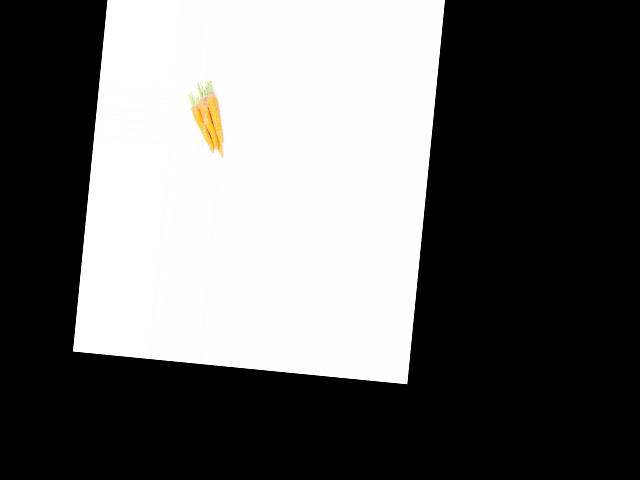carrot: (198, 90, 232, 149)
